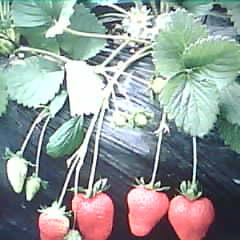straw-ripe: (169, 194, 214, 240), (127, 187, 168, 236)
